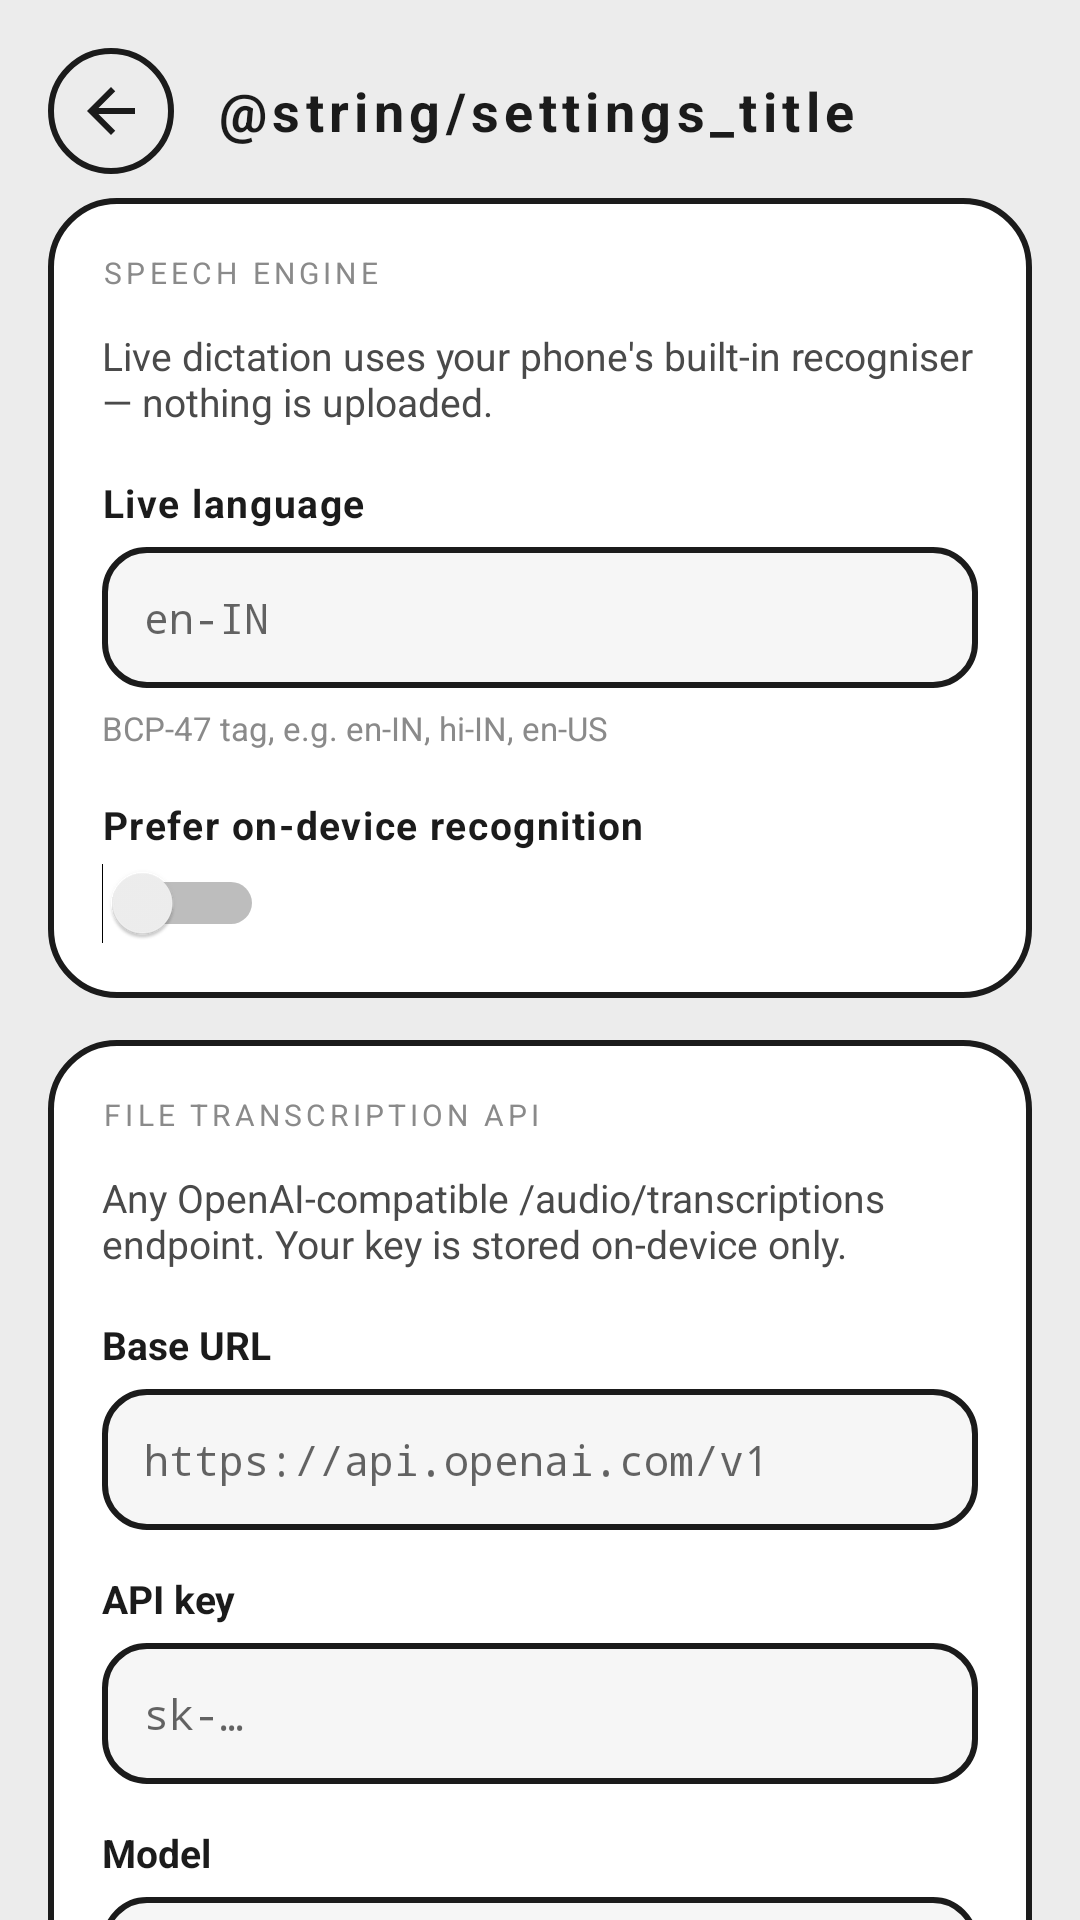

Screen size 1080*1920. Icon name, then its box in pixels as (x1, y1, x2, y2):
Back: (48, 48, 174, 174)
